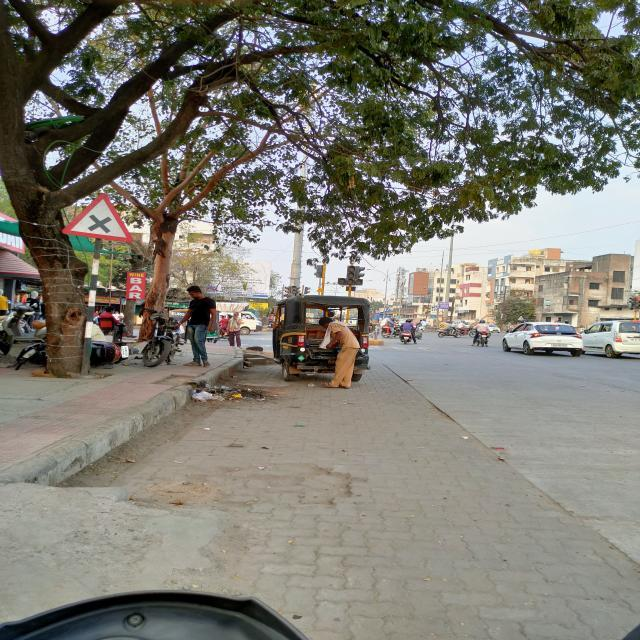cross road: (62, 194, 135, 245)
